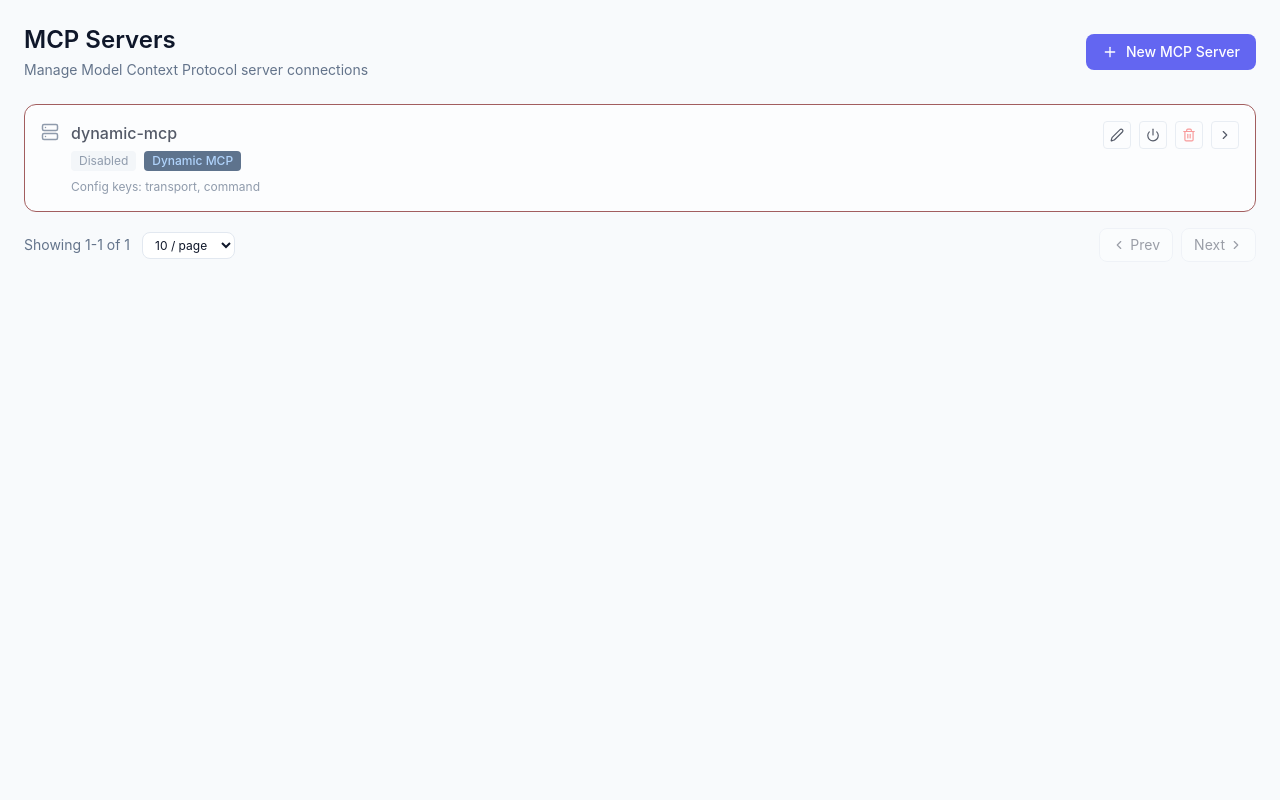
Test case: MCP server modal › hides sensitive raw JSON for dynamic MCP servers
Expected: the text "dynamic-mcp" is shown, [71,123,177,143]
Click the button titled "Edit" at (1117, 135), box [1103,121,1131,149]
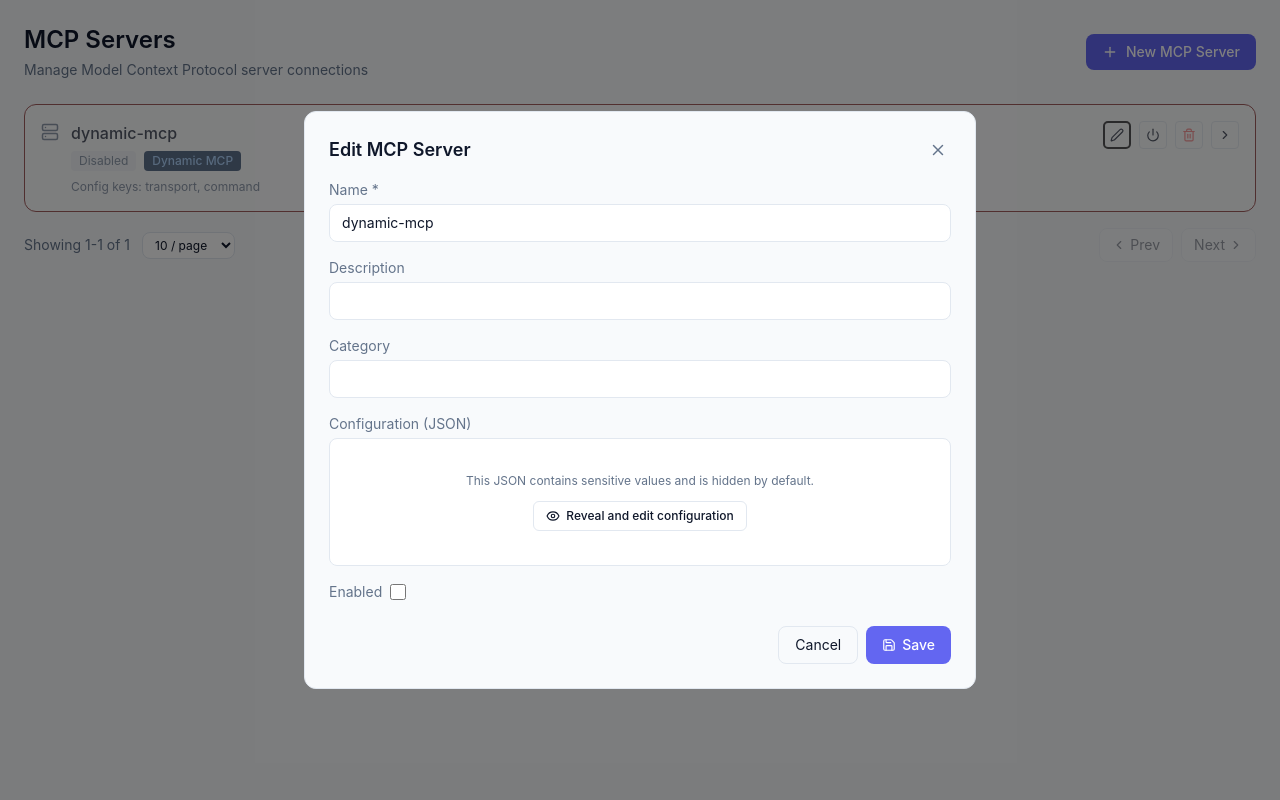
Expected: the field showing "dynamic-secret" is not shown
Click the button "Reveal and edit configuration" at (640, 516), box [533,501,747,531]
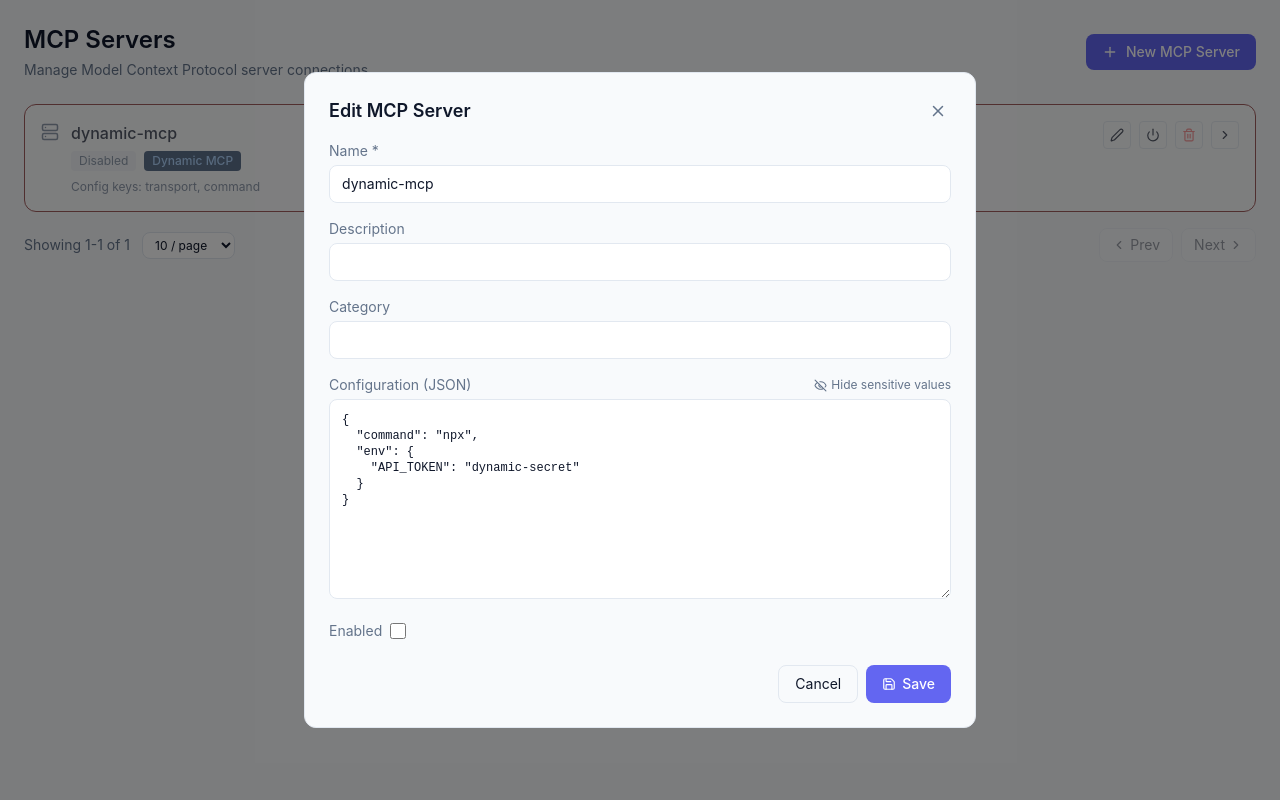
Expected: the text box showing "dynamic-secret" is shown, [329,399,951,599]
